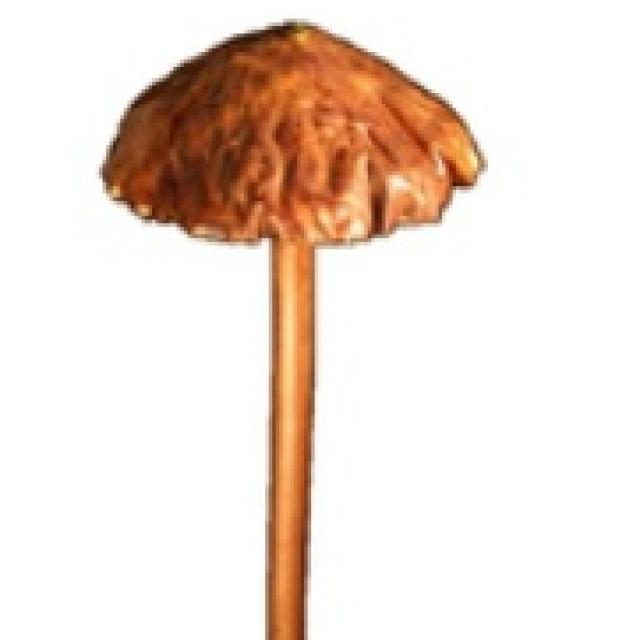mushroom: (96, 7, 492, 640)
